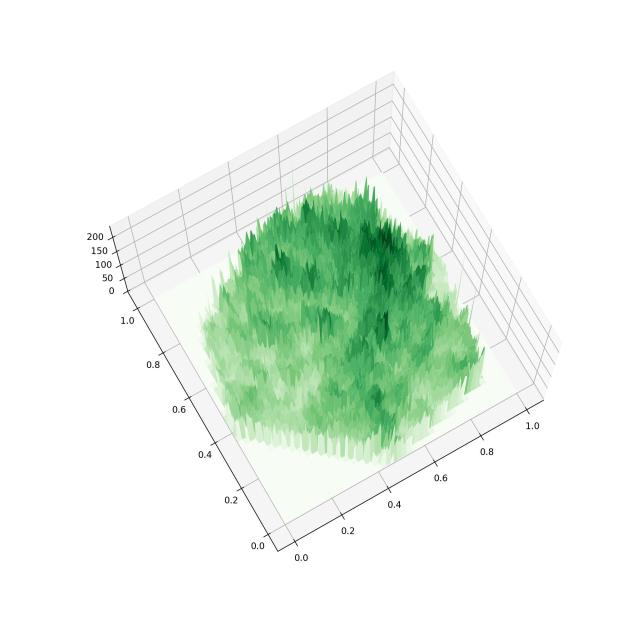fir: (58, 54, 587, 584)
